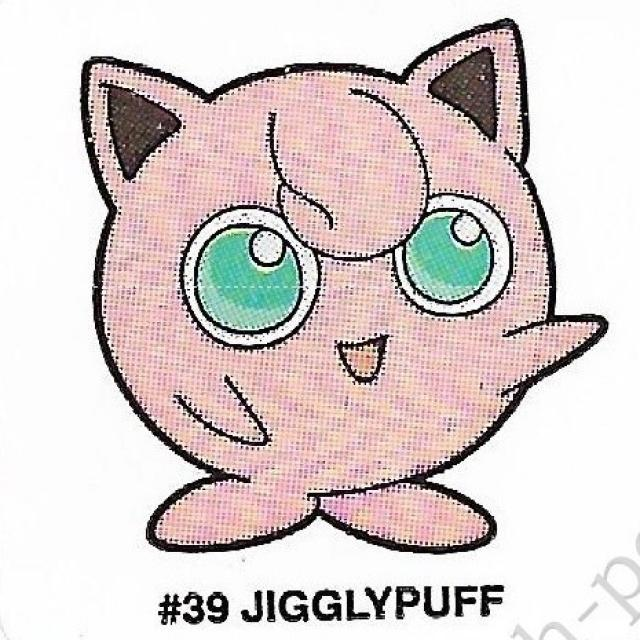Jigglypuff: (67, 26, 564, 554)
